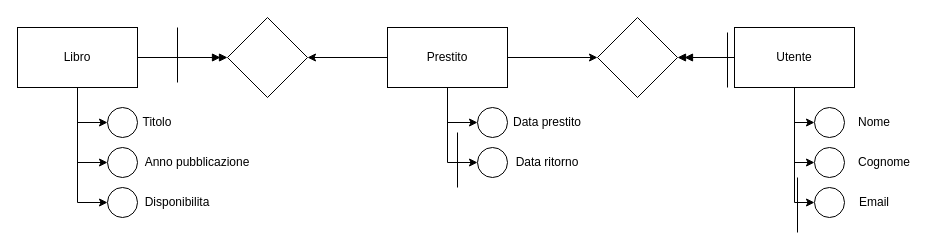
Image size: 932x251. Some labels were removed from this diagram. Here are the shapes that lost their labels. From the top down, the centre of each, then its label:
At [267,57]: "Preso".
At [637,57]: "Può prendere".
